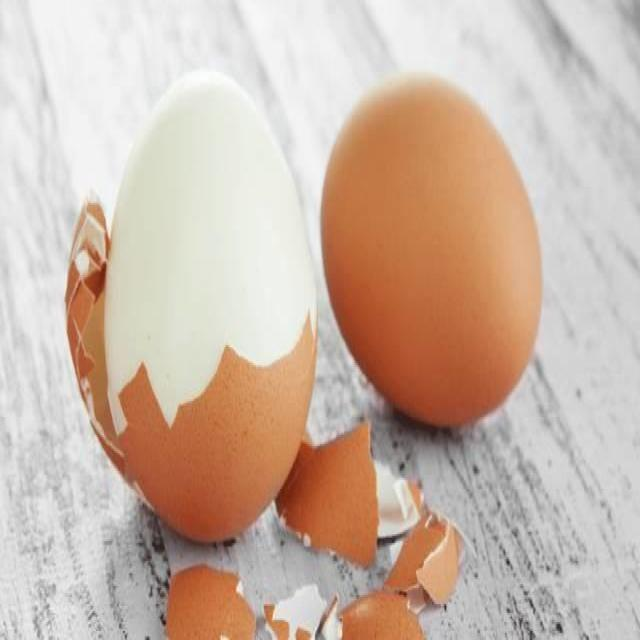organic: (68, 70, 385, 622), (319, 70, 545, 431), (342, 489, 465, 640), (374, 449, 429, 584), (165, 566, 256, 640), (253, 584, 370, 640)
